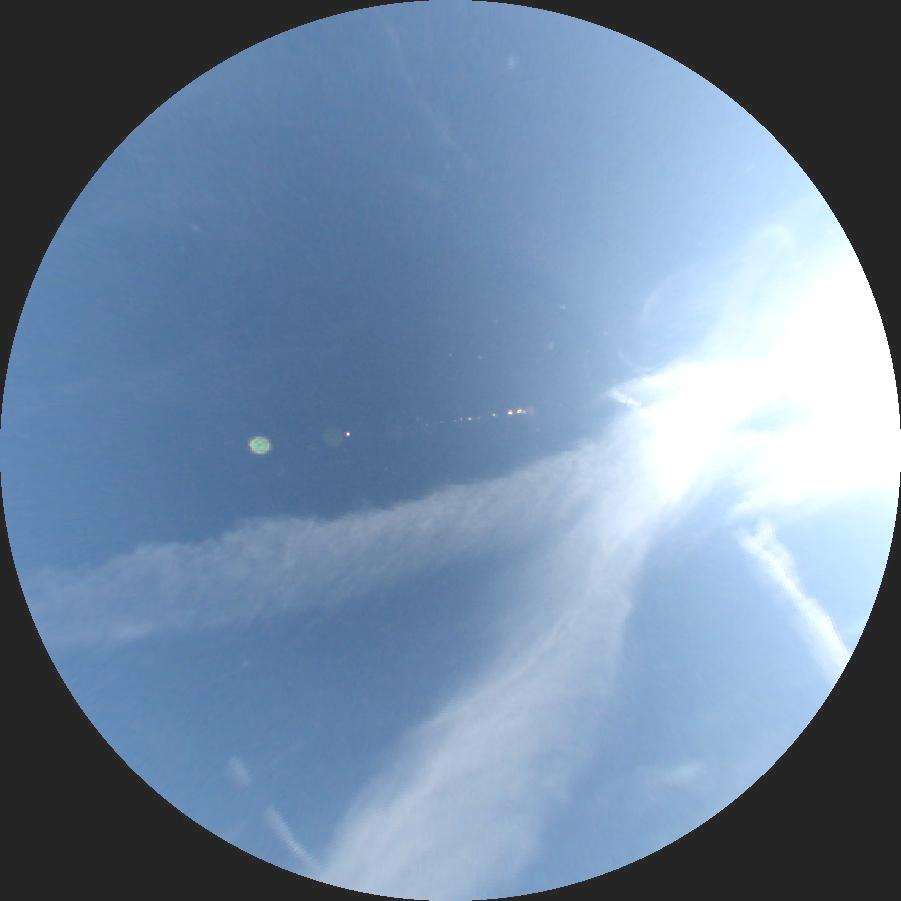contrail old: (608, 383, 843, 647)
contrail veryold: (14, 368, 901, 661), (730, 517, 860, 688)
unknow: (223, 756, 331, 883)
